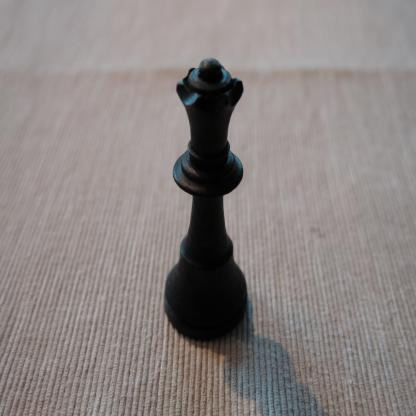black-queen: (162, 56, 249, 344)
